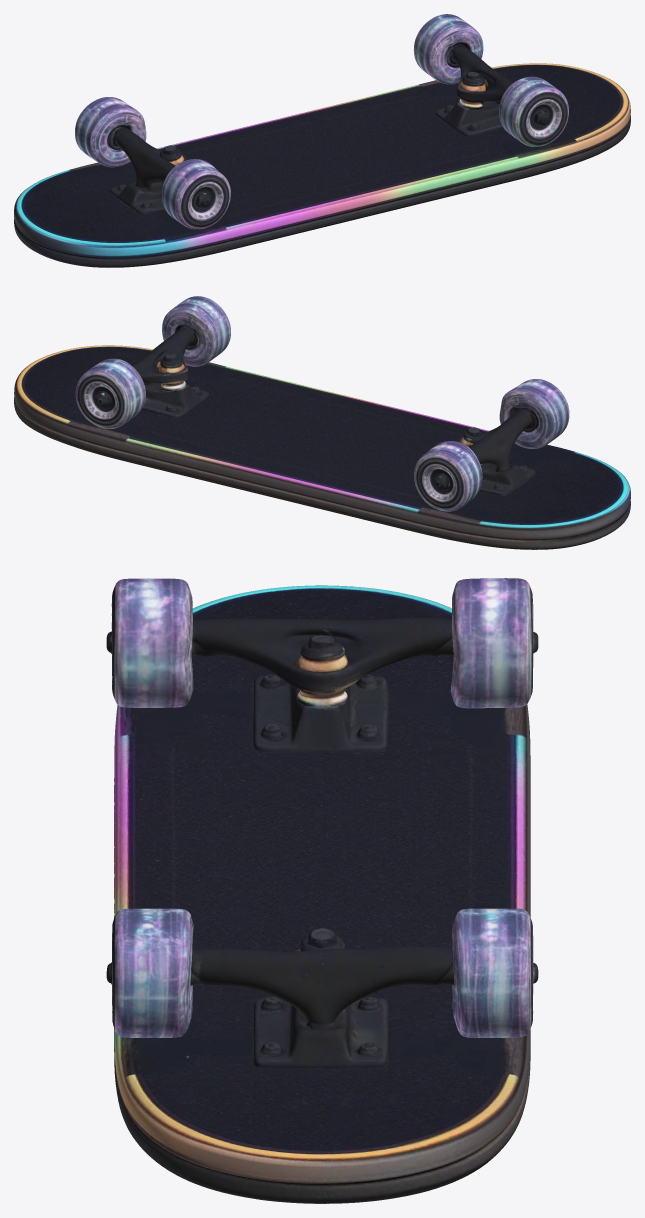
Rendered from skateboard.glb.
3 renders of one model, top to bottom at view 1: azimuth 30°, elevation 25°; view 2: azimuth 150°, elevation 25°; view 3: azimuth 270°, elevation 25°, orthographic. The views are drawn at different scales.
Parts seen in each view (by area): view 1: mesh_node; view 2: mesh_node; view 3: mesh_node.
Boxes of the visible parts, left/top/right/bottom form: mesh_node: left=14, top=14, right=630, bottom=267; mesh_node: left=14, top=296, right=630, bottom=549; mesh_node: left=106, top=578, right=538, bottom=1203.
Bounding box in the file's own units: 1.9 × 0.2683 × 0.6017.
1 material, 1 textured.
